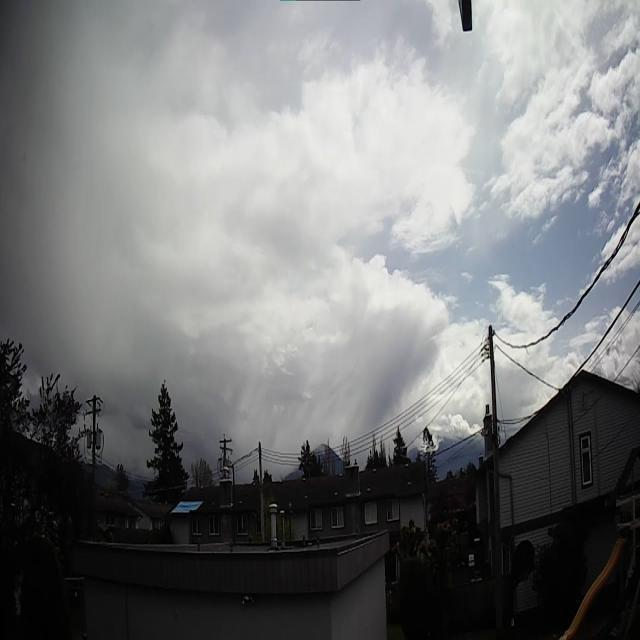cumulonimbus: (0, 0, 469, 455)
